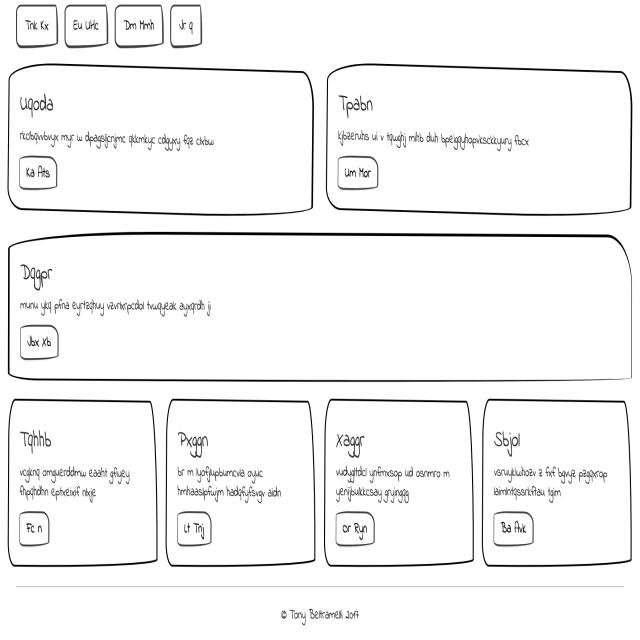Button: (16, 147, 64, 195), (494, 506, 538, 554), (335, 512, 377, 561), (14, 320, 62, 361), (334, 155, 382, 193), (11, 503, 51, 548), (174, 506, 213, 551)
Card: (5, 235, 639, 388), (322, 57, 639, 216), (7, 65, 313, 222), (3, 398, 161, 574), (324, 395, 472, 567), (164, 398, 314, 564), (482, 398, 631, 565)
Footer: (5, 580, 640, 640)
Heading 6: (326, 416, 380, 463), (175, 419, 224, 460), (16, 254, 60, 299), (336, 79, 382, 121), (15, 84, 68, 117), (489, 415, 528, 458), (16, 423, 59, 460)
Navigation Bar: (14, 2, 216, 51)
Paragraph: (16, 116, 242, 150), (335, 118, 541, 154), (18, 293, 224, 324), (329, 464, 456, 506), (173, 462, 286, 506), (14, 466, 140, 505), (489, 464, 620, 500)
